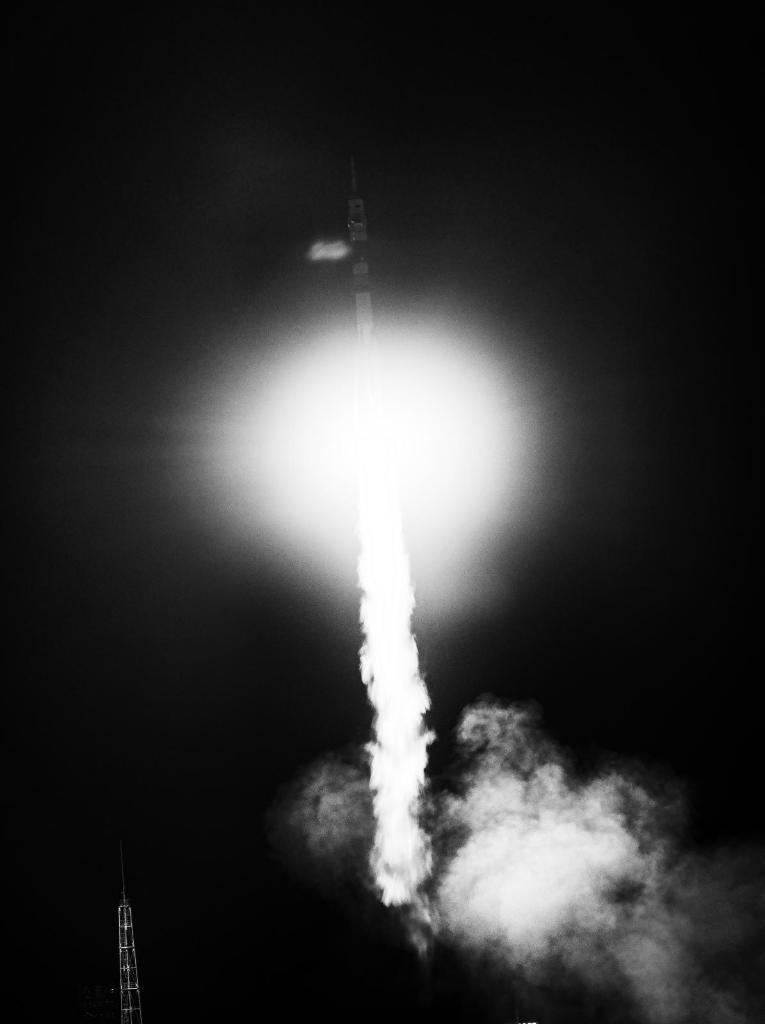Missile: (357, 161, 380, 364)
